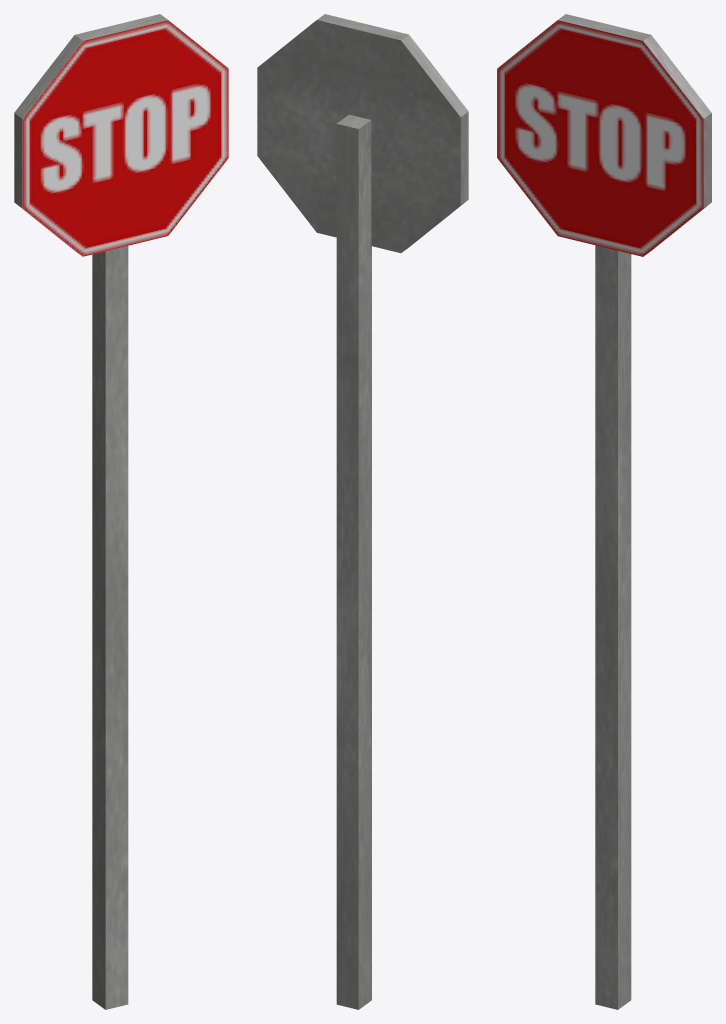
The model's file is co_StreetSign_Stop.fbx.
3 views of the same model, side by side, from view 1: azimuth 30°, elevation 25°; view 2: azimuth 150°, elevation 25°; view 3: azimuth 330°, elevation 25° (orthographic).
Visible parts, largest first — view 1: StreetSign_Stop; view 2: StreetSign_Stop; view 3: StreetSign_Stop.
Part boxes in pixels (x1,y1,x2,y2): StreetSign_Stop: [14, 14, 228, 1009]; StreetSign_Stop: [257, 14, 468, 1009]; StreetSign_Stop: [497, 14, 711, 1009].
Size of the model in its own units: 152 by 693 by 26.7.
